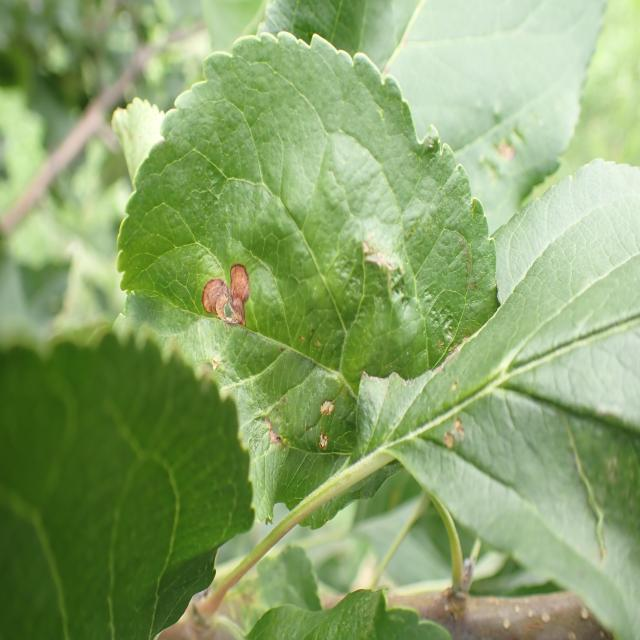Black Rot: (182, 242, 264, 349), (238, 393, 296, 470), (349, 218, 407, 285), (312, 386, 349, 485), (428, 396, 479, 465)
scab: (398, 192, 498, 368)
